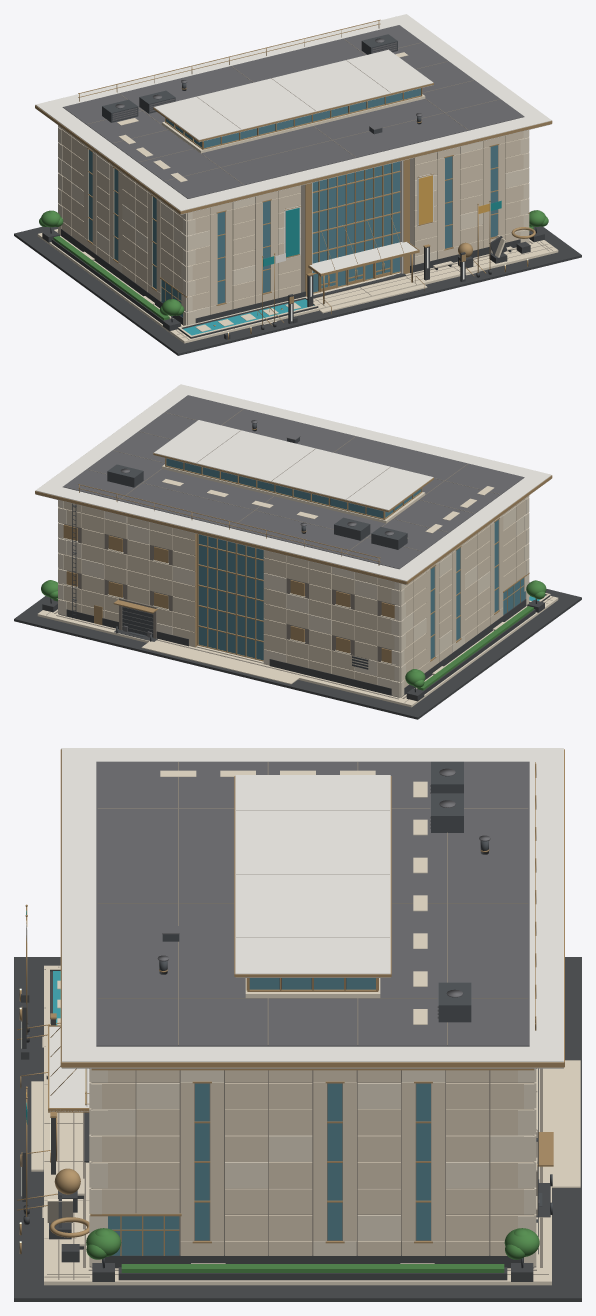
File: museum.glb
The picture shows the model from 3 angles, top to bottom: view 1: azimuth 30°, elevation 25°; view 2: azimuth 150°, elevation 25°; view 3: azimuth 270°, elevation 25°; orthographic projection. The views are drawn at different scales.
Visible parts, largest first — view 1: Merged_RoofDark, museum_merged_museumstone, Merged_MuseumWhite, Merged_MuseumGlass, Merged_MuseumGranite, Merged_MuseumBronze, Merged_MuseumTravertine, museum_merged_museumstonepale, Merged_MuseumCore, Merged_VillaHedge, Merged_WindowFrame, Merged_MuseumBannerTeal (+2 smaller); view 2: museum_merged_museumstone, Merged_RoofDark, Merged_MuseumWhite, Merged_MuseumGranite, Merged_MuseumGlass, Merged_MuseumBronze, museum_merged_museumstonepale, Merged_MuseumTravertine, Merged_MuseumCore, Merged_WindowFrame, Merged_VillaHedge; view 3: Merged_RoofDark, Merged_MuseumWhite, museum_merged_museumstone, Merged_MuseumGranite, Merged_MuseumTravertine, museum_merged_museumstonepale, Merged_MuseumBronze, Merged_MuseumGlass, Merged_MuseumCore, Merged_VillaHedge, Merged_WindowFrame.
Part boxes in pixels (x1,y1,x2,y2): Merged_RoofDark: (62,25,524,198); museum_merged_museumstone: (58,127,528,314); Merged_MuseumWhite: (35,14,551,274); Merged_MuseumGlass: (88,88,497,317); Merged_MuseumGranite: (14,226,581,355); Merged_MuseumBronze: (35,19,552,339); Merged_MuseumTravertine: (37,52,558,343); museum_merged_museumstonepale: (58,125,529,325); Merged_MuseumCore: (56,39,552,339); Merged_VillaHedge: (39,210,548,320); Merged_WindowFrame: (50,34,536,322); Merged_MuseumBannerTeal: (263,200,501,266); museum_merged_museumstone: (59,497,528,687); Merged_RoofDark: (63,395,524,637); Merged_MuseumWhite: (35,384,551,584); Merged_MuseumGranite: (14,582,581,719); Merged_MuseumGlass: (166,458,525,660); Merged_MuseumBronze: (35,428,552,663); museum_merged_museumstonepale: (58,495,529,697); Merged_MuseumTravertine: (37,464,558,707); Merged_MuseumCore: (46,409,552,702); Merged_WindowFrame: (50,423,536,692); Merged_VillaHedge: (41,580,546,690); Merged_RoofDark: (96,761,539,1211); Merged_MuseumWhite: (26,748,563,1111); museum_merged_museumstone: (90,1070,535,1255); Merged_MuseumGranite: (14,957,581,1301); Merged_MuseumTravertine: (31,770,580,1285); museum_merged_museumstonepale: (89,1068,536,1267); Merged_MuseumBronze: (17,749,564,1255); Merged_MuseumGlass: (108,978,430,1255); Merged_MuseumCore: (44,762,548,1279); Merged_VillaHedge: (86,1228,539,1272); Merged_WindowFrame: (102,761,552,1268).
Size of the model in its own units: 54 by 19.01 by 38.
